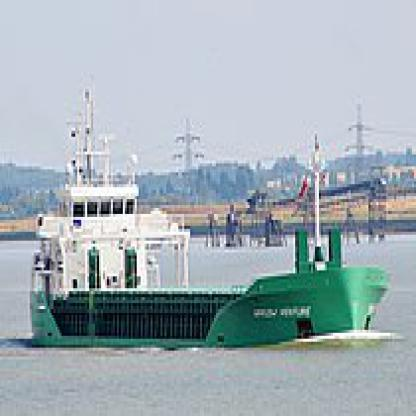Container Ship: (28, 75, 391, 348)
